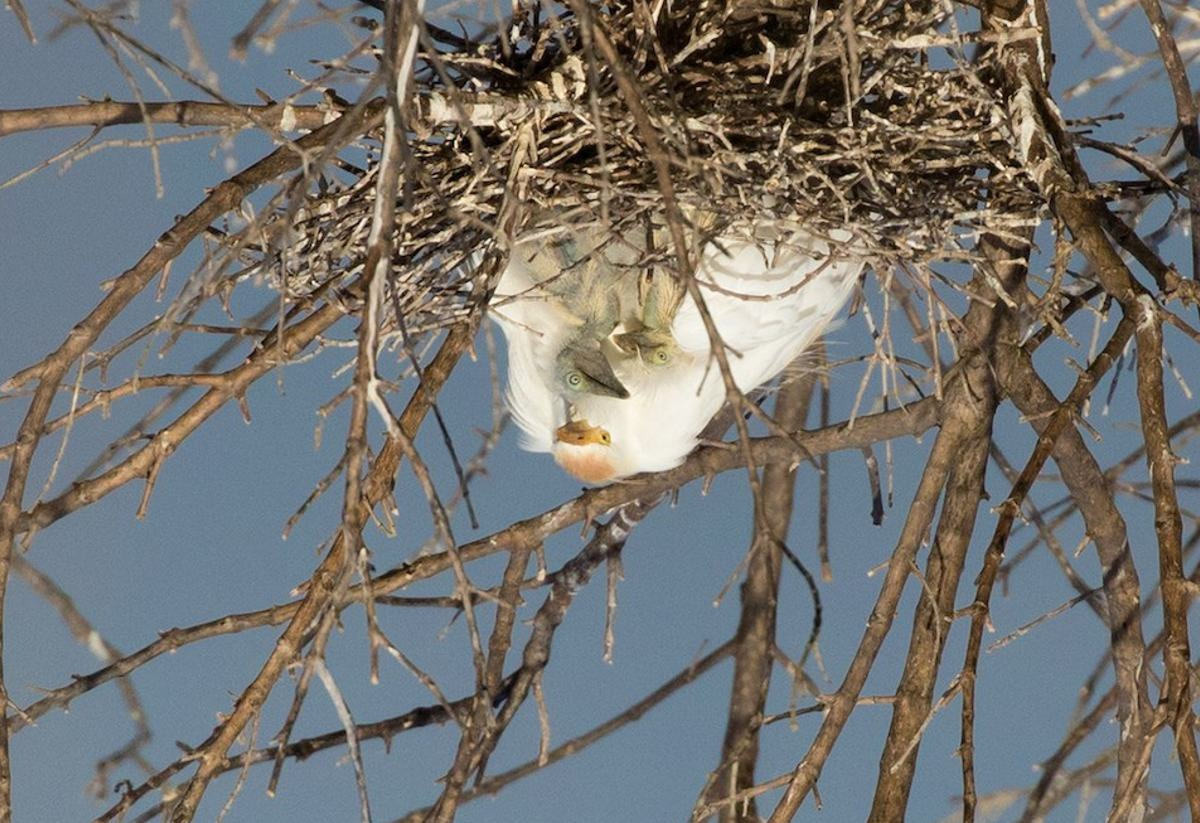egret: (494, 214, 867, 471)
